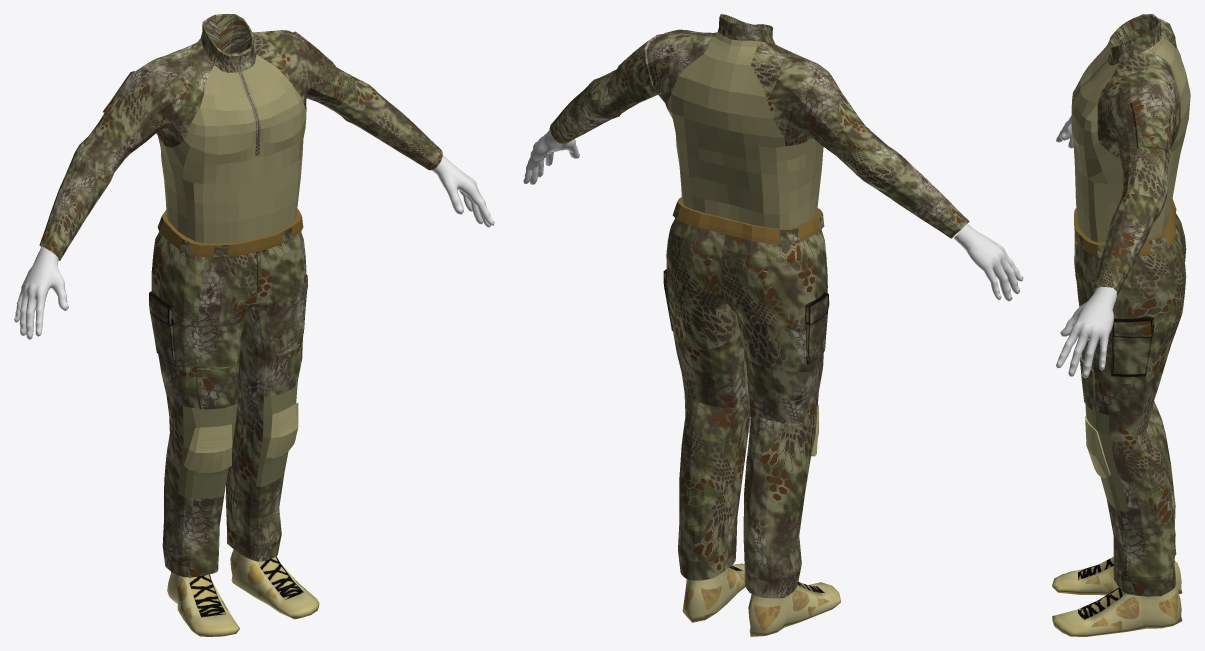
File: OnlyMesh.fbx
3 views of the same model, side by side, from view 1: azimuth 30°, elevation 25°; view 2: azimuth 150°, elevation 25°; view 3: azimuth 270°, elevation 25° (orthographic). The views are drawn at different scales.
Visible parts, largest first — view 1: Mesh; view 2: Mesh; view 3: Mesh.
Part boxes in pixels (x1=…): Mesh: x1=14, y1=14, x2=494, y2=636; Mesh: x1=523, y1=14, x2=1023, y2=636; Mesh: x1=1052, y1=14, x2=1190, y2=636.
Bounding box in the file's own units: 731 × 865 × 185.
Materials: 3 (2 with a texture image).
